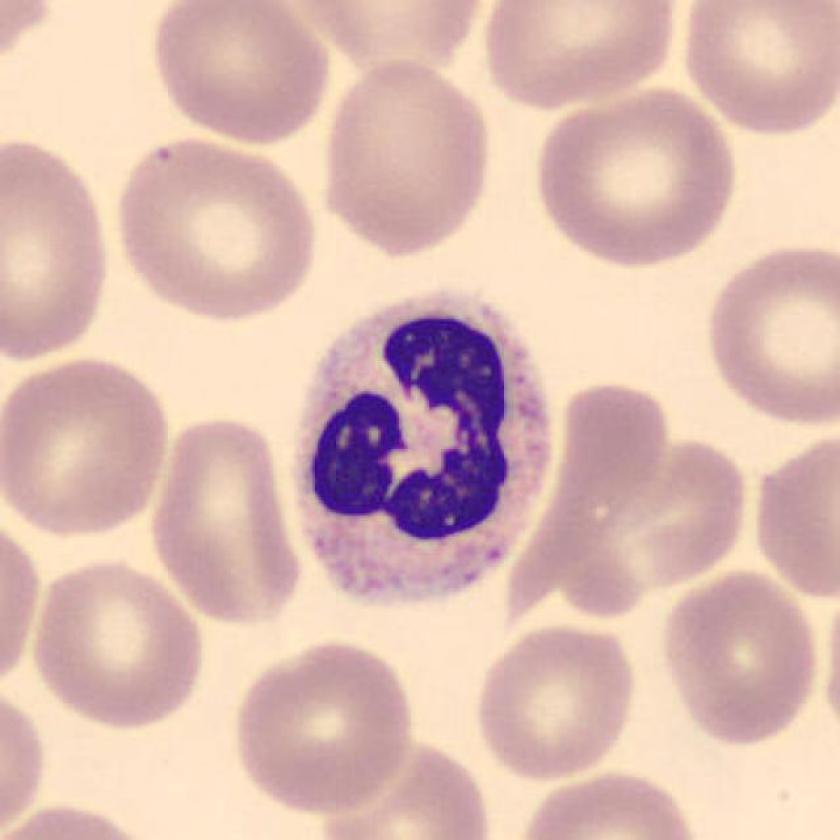neutrophil: (293, 290, 550, 603)
